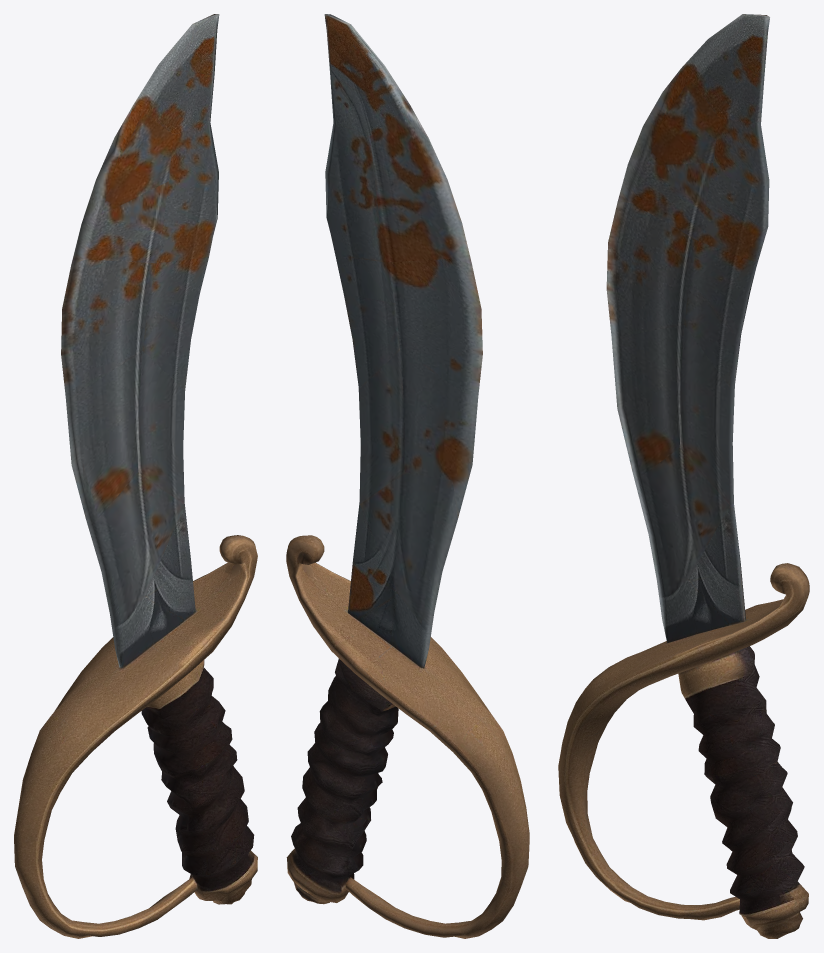
File: saber.glb
The picture shows the model from 3 angles, left to right: view 1: azimuth 30°, elevation 25°; view 2: azimuth 150°, elevation 25°; view 3: azimuth 330°, elevation 25°; orthographic projection. The views are drawn at different scales.
Bounding box in the file's own units: 0.2839 × 1 × 0.1149.
Materials: 1 (1 with a texture image).
